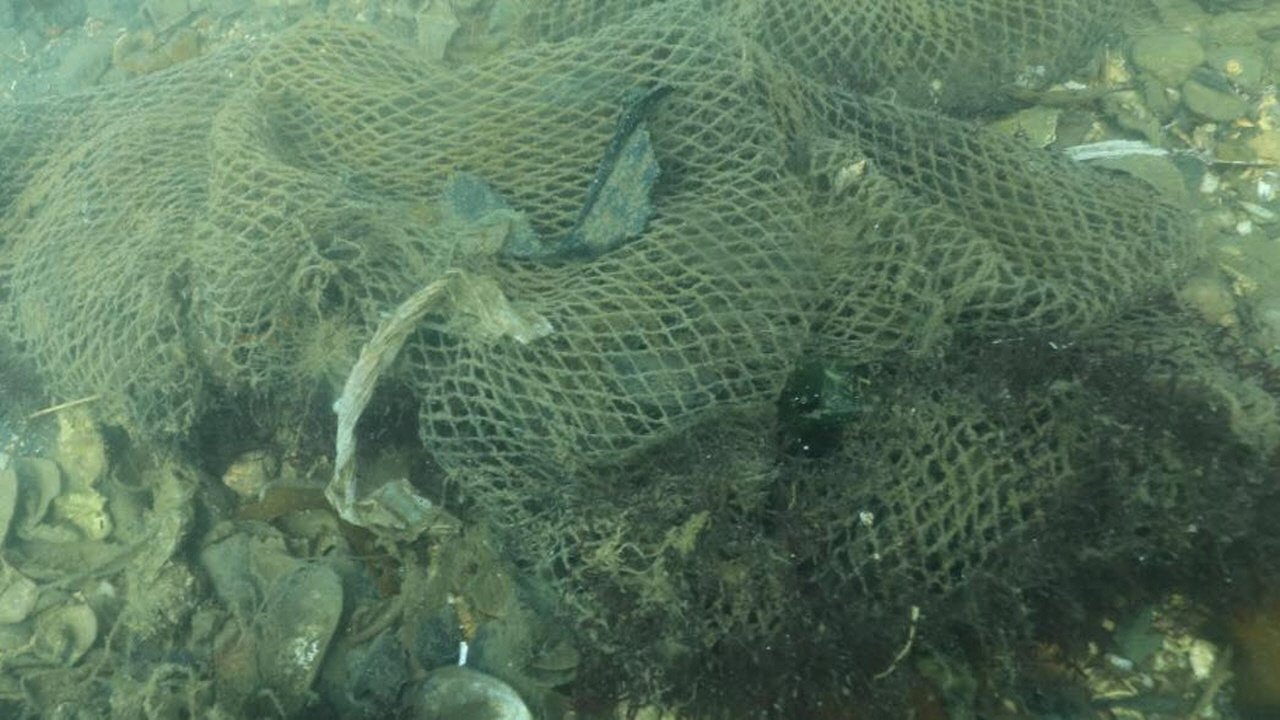fish net: (0, 0, 1276, 657)
